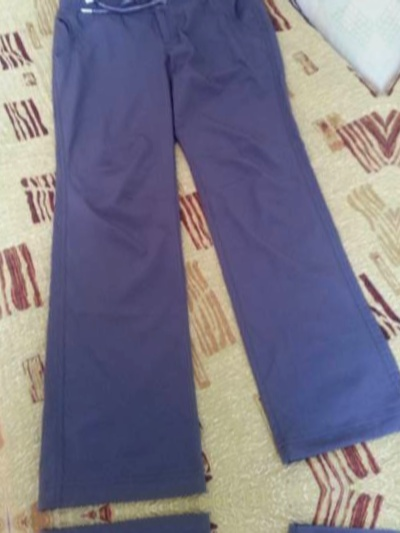Pants: (0, 0, 400, 511), (36, 492, 400, 533), (378, 0, 400, 469)
